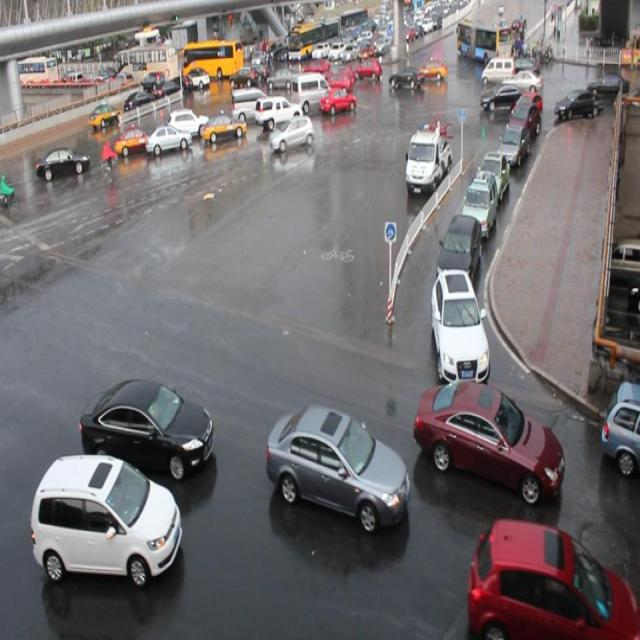bus: (404, 130, 451, 194)
car: (467, 516, 639, 640), (30, 453, 183, 585), (266, 400, 410, 530), (413, 382, 565, 504), (81, 377, 215, 476), (430, 268, 488, 384), (598, 381, 640, 471), (436, 213, 481, 292), (460, 173, 498, 242), (473, 150, 509, 208), (38, 145, 91, 177), (270, 116, 315, 152), (202, 112, 247, 146), (255, 98, 302, 130), (495, 124, 527, 170), (507, 106, 539, 150), (168, 110, 211, 139), (146, 126, 192, 153), (517, 94, 543, 132), (115, 128, 156, 152), (321, 90, 358, 115)
truck: (292, 77, 333, 113), (232, 90, 274, 122)
